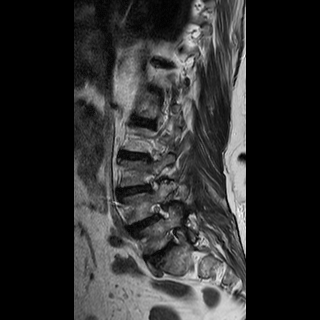RFS1: (142, 198, 176, 223)
